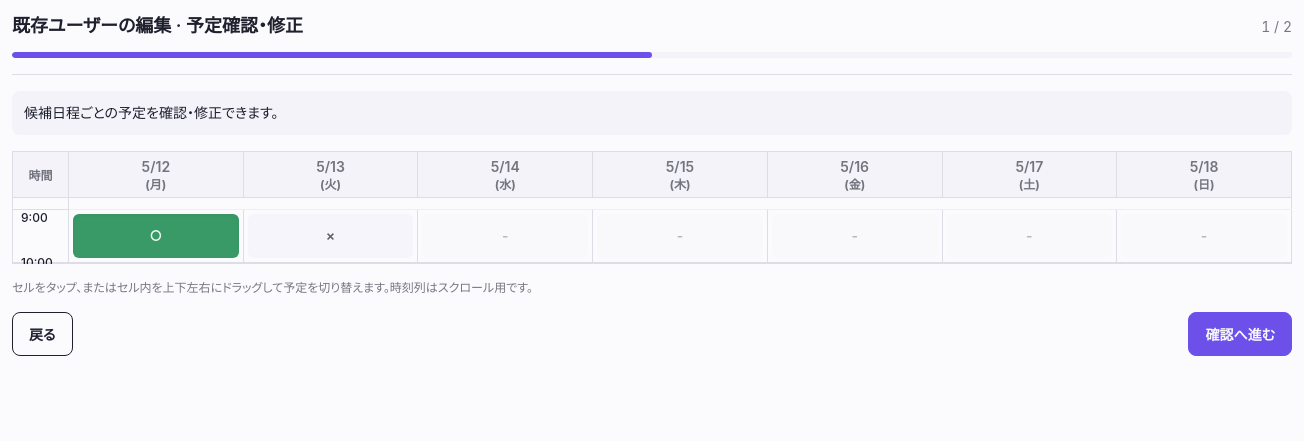
it: AvailabilityForm › 編集回答は曜日一括入力を表示せず2ステップで遷移できる
Expected: the element with test id "availability-step-heatmap" is shown, [12, 91, 1292, 356]
Click the button "確認へ進む" at (1240, 334), box [1188, 312, 1292, 356]
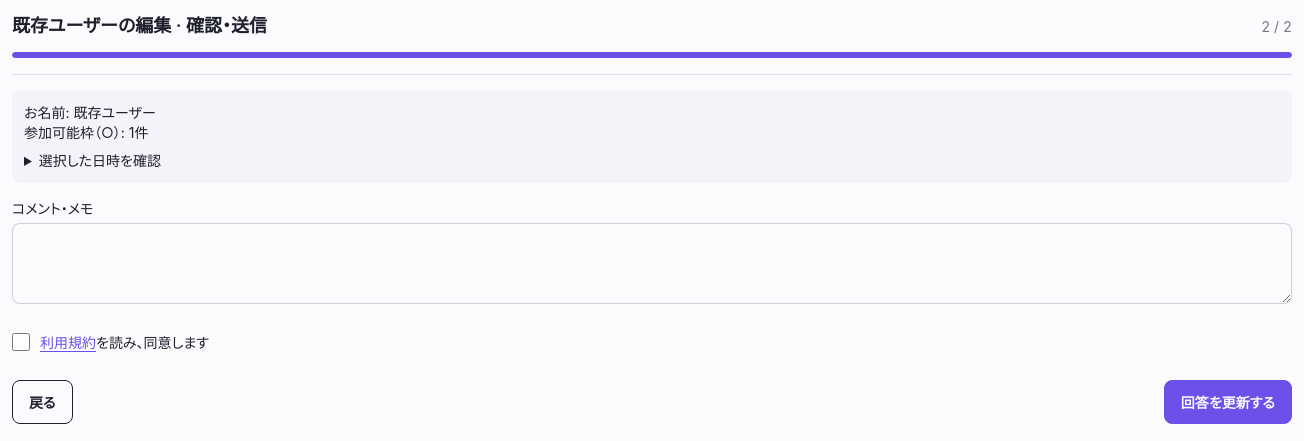
Now the element with test id "availability-step-confirm" is shown
